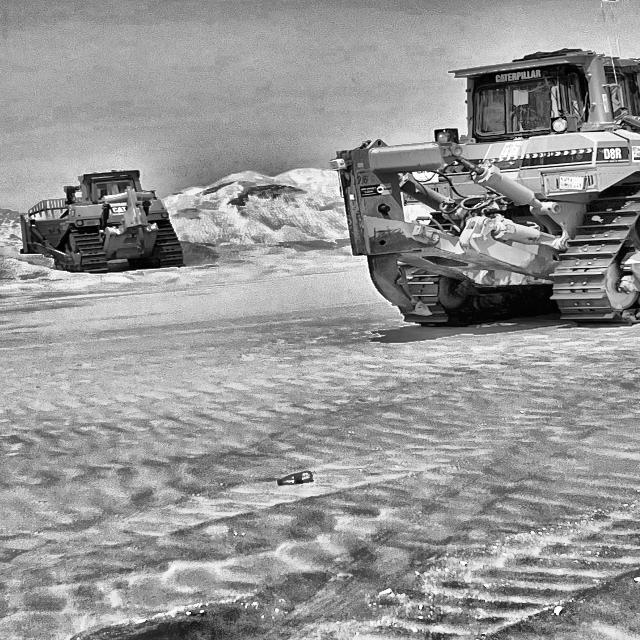buldozerpayloadergrader: (330, 41, 640, 345), (14, 158, 188, 286)
